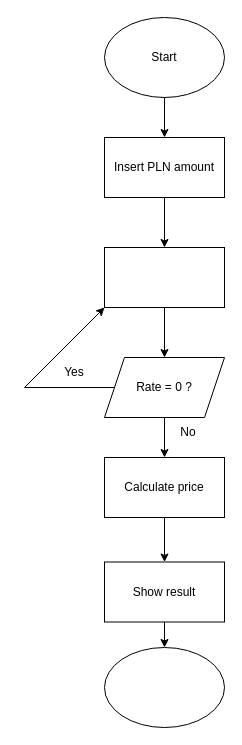
Image size: 242x745. Some labels were removed from this diagram. The centre of each missing label's shape, as x and y in pixels:
"Insert rate" belongs at (x=164, y=277).
"Stop" belongs at (x=164, y=687).
